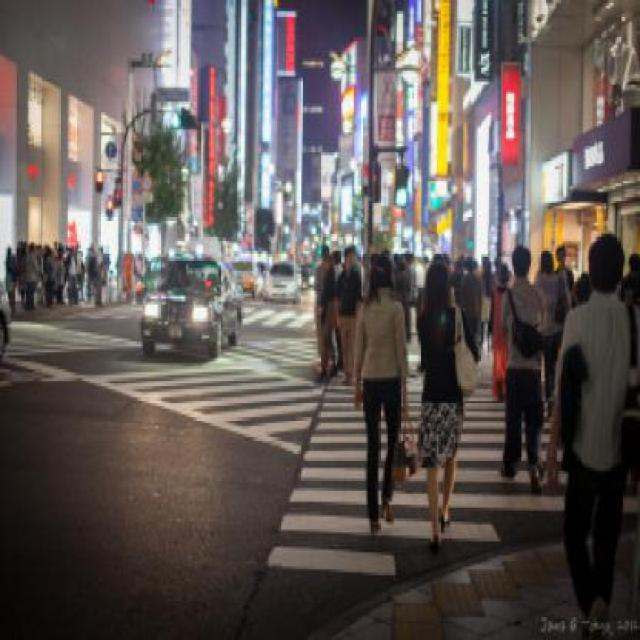Person: (546, 235, 637, 614), (416, 262, 472, 541), (356, 251, 406, 531), (502, 246, 544, 474), (336, 248, 364, 386)
